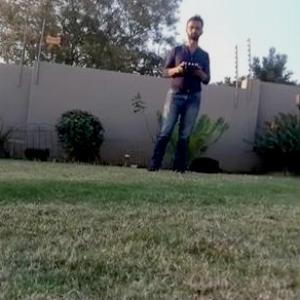follow: (140, 5, 214, 176)
